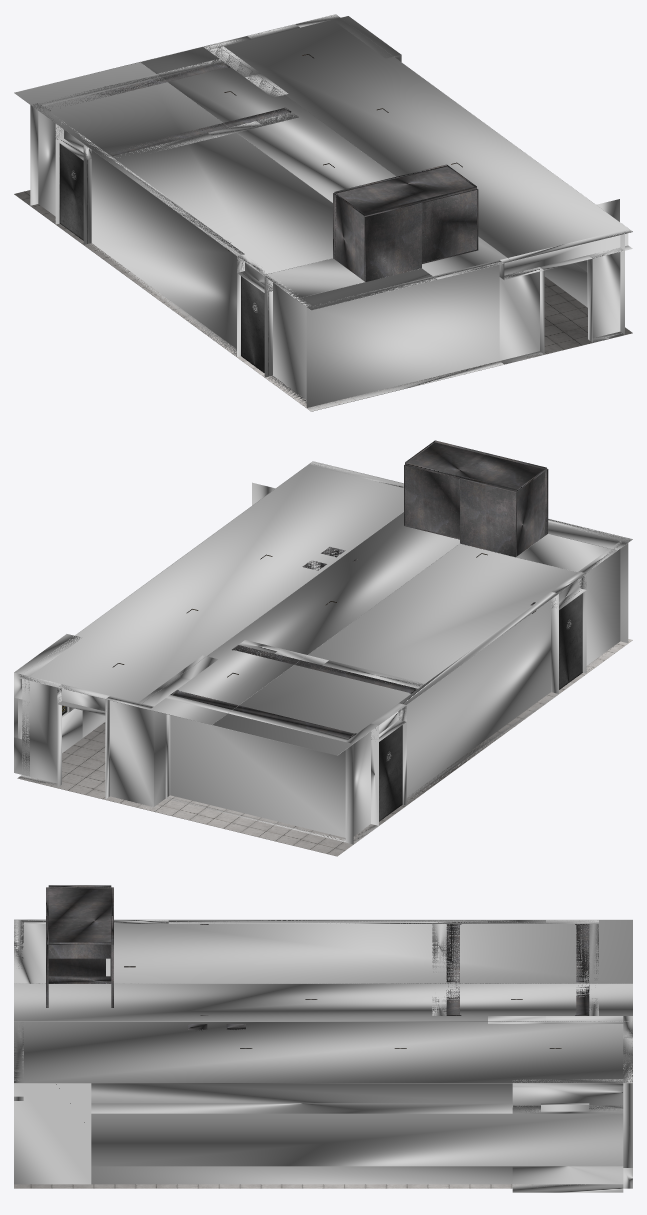
The model's file is room2testroom2_opt.obj.
3 views of the same model, one above another, from view 1: azimuth 30°, elevation 25°; view 2: azimuth 150°, elevation 25°; view 3: azimuth 270°, elevation 25° (orthographic). The views are drawn at different scales.
Size of the model in its own units: 68.8 by 34.4 by 102.
